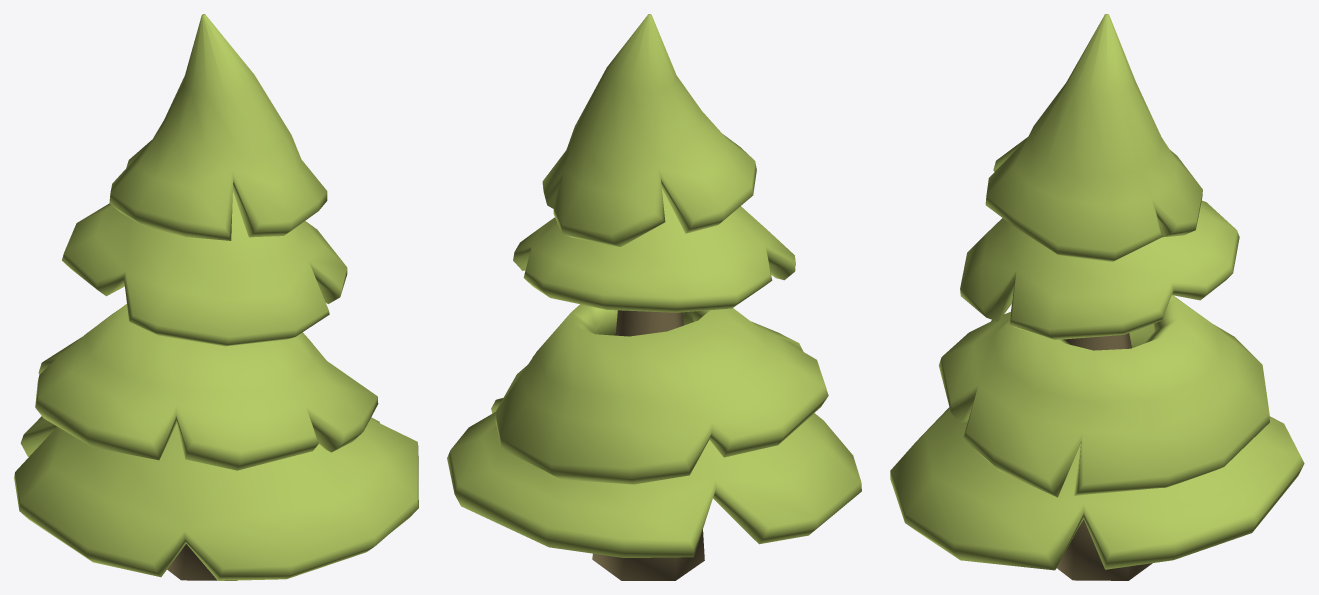
The model's file is Tree_Medium2.fbx.
The picture shows the model from 3 angles, left to right: view 1: azimuth 30°, elevation 25°; view 2: azimuth 150°, elevation 25°; view 3: azimuth 270°, elevation 25°; orthographic projection.
Parts seen in each view (by area): view 1: Tree4; view 2: Tree4; view 3: Tree4.
Boxes of the visible parts, box(x1,y1,x2,y2) form: Tree4: box(14, 14, 418, 580); Tree4: box(447, 14, 861, 580); Tree4: box(890, 14, 1304, 580).
Bounding box in the file's own units: 94.8 × 136 × 94.08.
